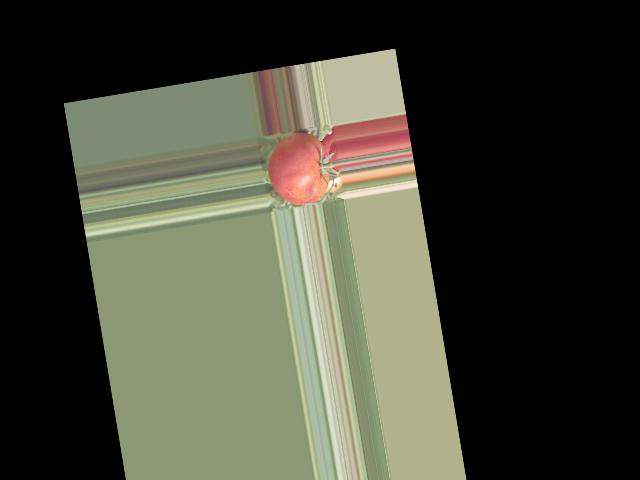tomato: (263, 129, 334, 209)
